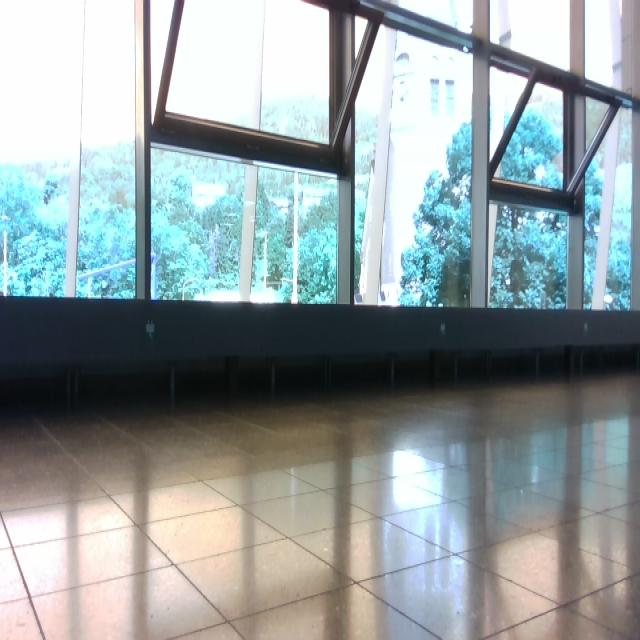light bulb: (190, 180, 225, 208), (533, 163, 545, 181), (145, 319, 154, 333), (603, 293, 613, 304)
tiled floor: (1, 371, 638, 637)
window: (0, 0, 638, 312)
